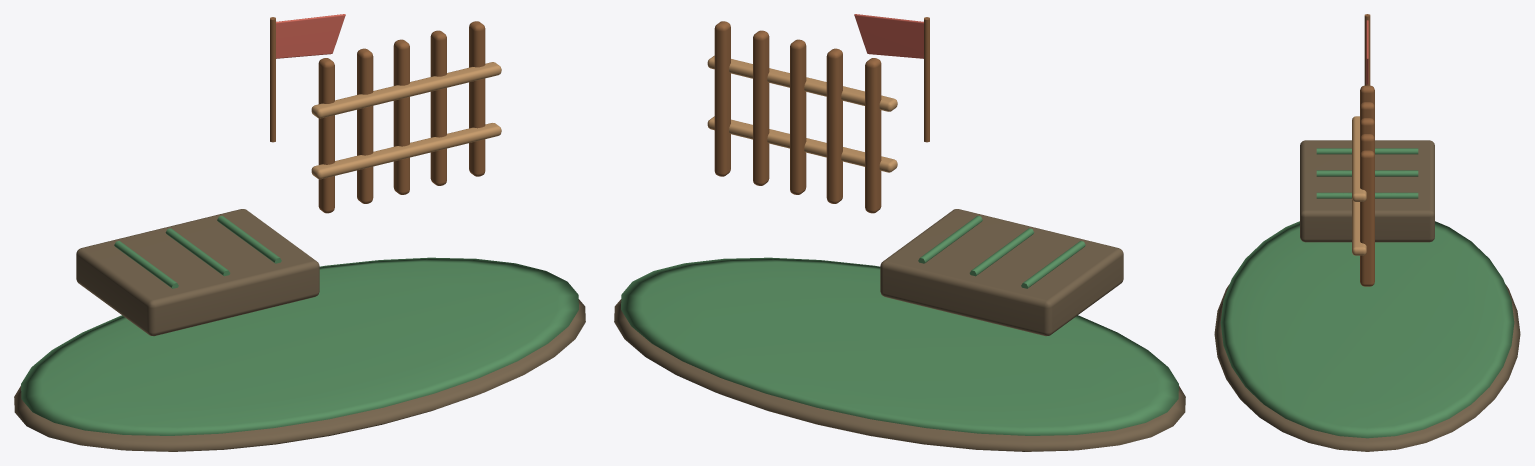
Rendered from complete-second-ground-event-unit.glb.
The picture shows the model from 3 angles, left to right: view 1: azimuth 30°, elevation 25°; view 2: azimuth 150°, elevation 25°; view 3: azimuth 270°, elevation 25°; orthographic projection. The views are drawn at different scales.
Visible parts, largest first — view 1: complete-second-ground-event-unit_surface_01, complete-second-ground-event-unit_surface_00, complete-second-ground-event-unit_surface_02, complete-second-ground-event-unit_surface_03, complete-second-ground-event-unit_surface_04; view 2: complete-second-ground-event-unit_surface_01, complete-second-ground-event-unit_surface_00, complete-second-ground-event-unit_surface_02, complete-second-ground-event-unit_surface_03, complete-second-ground-event-unit_surface_04; view 3: complete-second-ground-event-unit_surface_01, complete-second-ground-event-unit_surface_00, complete-second-ground-event-unit_surface_02, complete-second-ground-event-unit_surface_03.
Part boxes in pixels (x1,y1,x2,y2): complete-second-ground-event-unit_surface_01: (21,215,578,435); complete-second-ground-event-unit_surface_00: (14,209,585,451); complete-second-ground-event-unit_surface_02: (270,17,485,213); complete-second-ground-event-unit_surface_03: (311,62,501,179); complete-second-ground-event-unit_surface_04: (276,14,345,58); complete-second-ground-event-unit_surface_01: (621,215,1178,435); complete-second-ground-event-unit_surface_00: (614,209,1185,451); complete-second-ground-event-unit_surface_02: (714,17,929,213); complete-second-ground-event-unit_surface_03: (707,55,897,172); complete-second-ground-event-unit_surface_04: (854,14,923,58); complete-second-ground-event-unit_surface_01: (1220,148,1514,438); complete-second-ground-event-unit_surface_00: (1214,140,1520,451); complete-second-ground-event-unit_surface_02: (1360,14,1374,286); complete-second-ground-event-unit_surface_03: (1352,116,1366,255).
Size of the model in its own units: 4.56 by 2.9 by 2.5.
